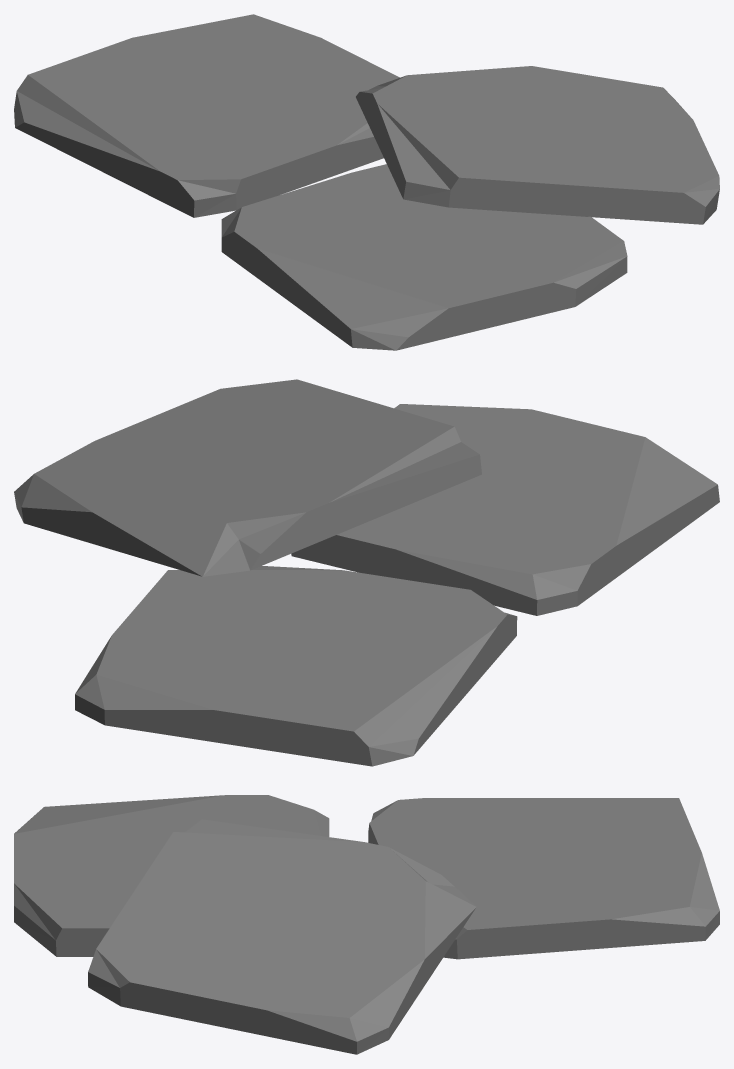
Rendered from Tile_08.FBX.
The picture shows the model from 3 angles, top to bottom: view 1: azimuth 30°, elevation 25°; view 2: azimuth 150°, elevation 25°; view 3: azimuth 270°, elevation 25°; orthographic projection. The views are drawn at different scales.
Parts seen in each view (by area): view 1: Tile_08; view 2: Tile_08; view 3: Tile_08.
Boxes of the visible parts, x1=… form: Tile_08: x1=14, y1=14, x2=719, y2=350; Tile_08: x1=14, y1=379, x2=719, y2=766; Tile_08: x1=14, y1=795, x2=719, y2=1054.
Bounding box in the file's own units: 2.72 × 0.4093 × 3.36.
